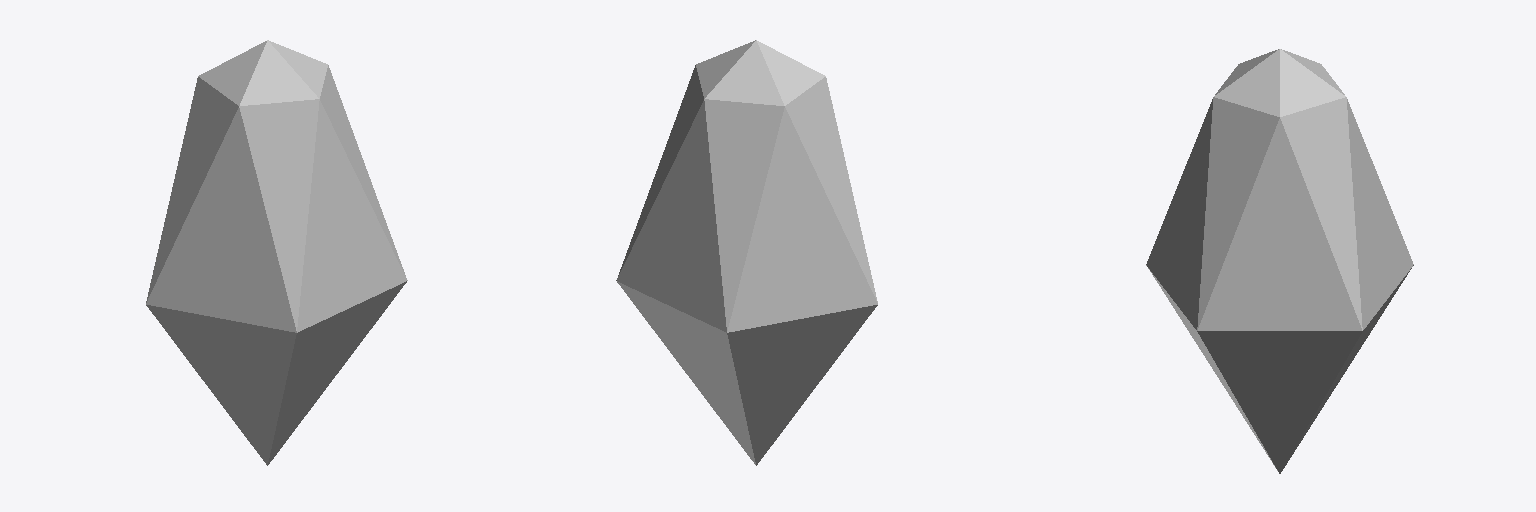
Rendered from Abberation1.obj.
The picture shows the model from 3 angles: view 1: azimuth 30°, elevation 25°; view 2: azimuth 150°, elevation 25°; view 3: azimuth 270°, elevation 25°; orthographic projection.
Parts seen in each view (by area): view 1: Icosphere; view 2: Icosphere; view 3: Icosphere.
Boxes of the visible parts, <box> form: Icosphere: <box>146,40,407,465</box>; Icosphere: <box>616,40,877,465</box>; Icosphere: <box>1146,49,1413,473</box>.
Bounding box in the file's own units: 0.9032 × 1.67 × 0.9497.